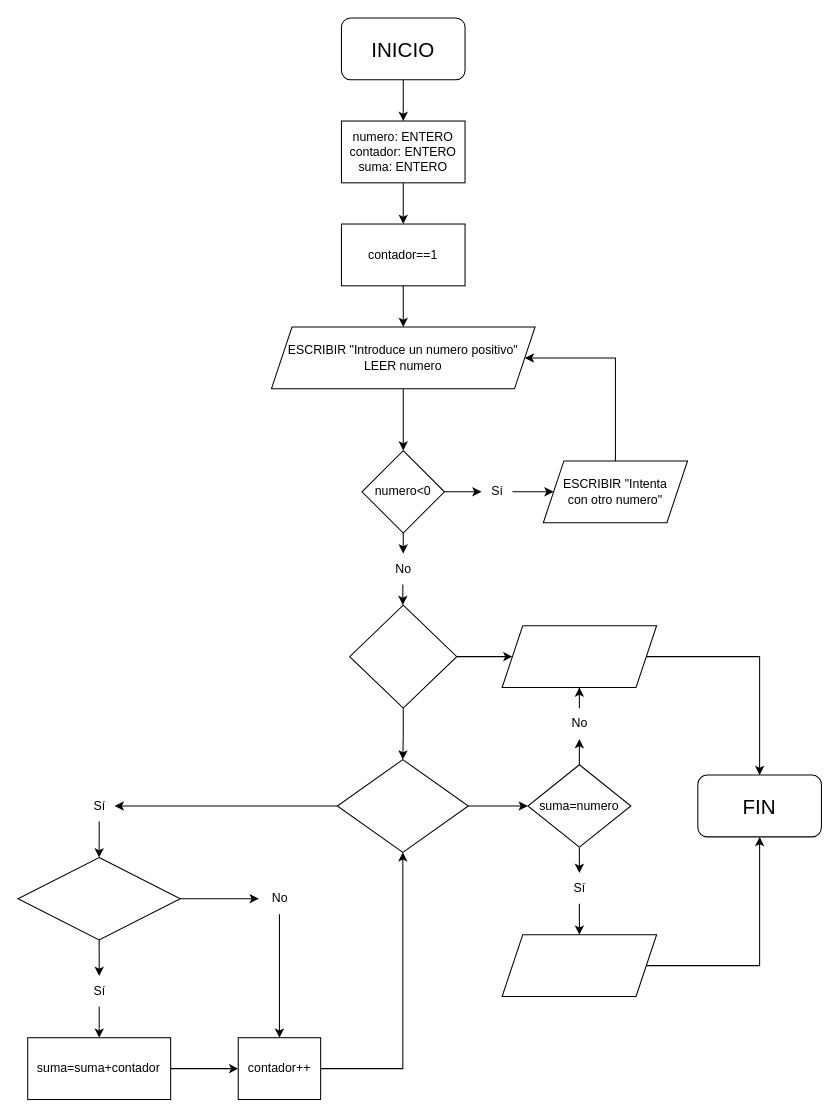
Some shapes in this 839 by 1118 pixel diagram are drawn without their labels. Here are the shapes that lost their labels. From the top down, the centre of each, then its label:
(x=403, y=656): numero=0 OR numero=1
(x=579, y=656): ESCRIBIR "No es un numero perfecto"
(x=402, y=805): contador=numero-1
(x=98, y=898): numero%contador==0
(x=579, y=965): ESCRIBIR "Sí es un numero perfecto"
